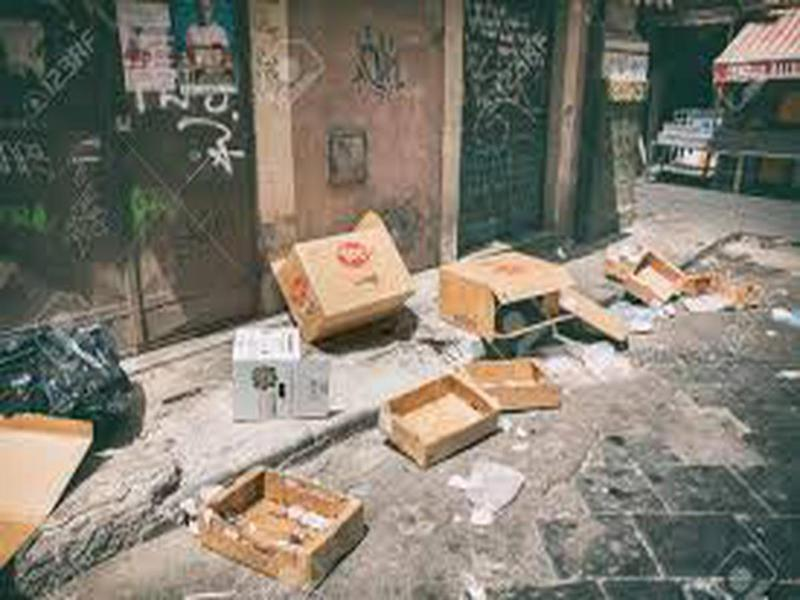cardboard: (192, 457, 369, 594), (435, 242, 627, 352), (274, 207, 417, 341), (604, 223, 763, 314), (377, 370, 504, 464), (229, 322, 337, 424)
plastic: (1, 305, 152, 447)
